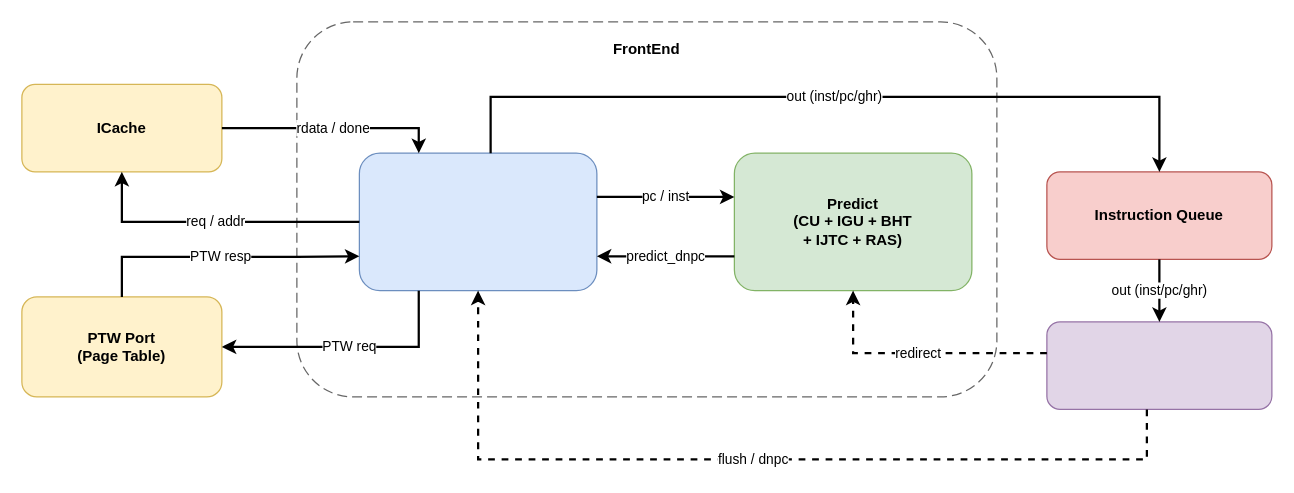
The diagram is 1294 pixels wide and 493 high, and some of its shapes have lost their labels. Each missing label, with the centre of its shape:
"BackEnd" belongs at [1159,365].
"IFU (4-stage pipe + iTLB + PTW)" belongs at [477,221].
